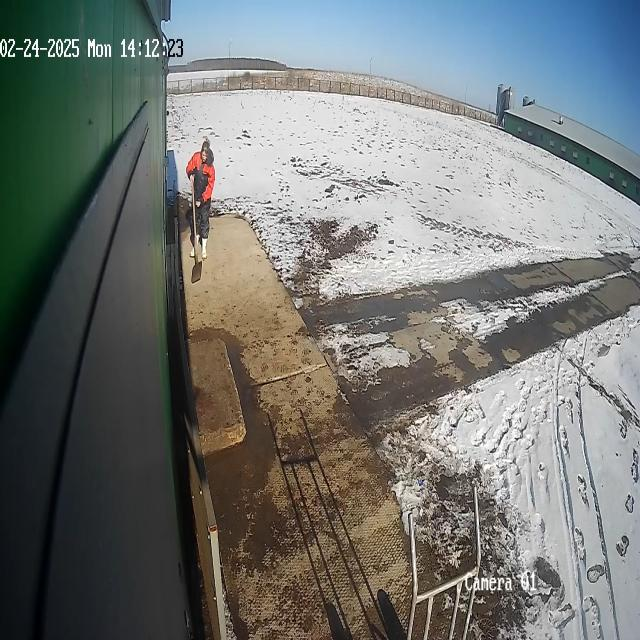Red uniform: (184, 138, 217, 263)
